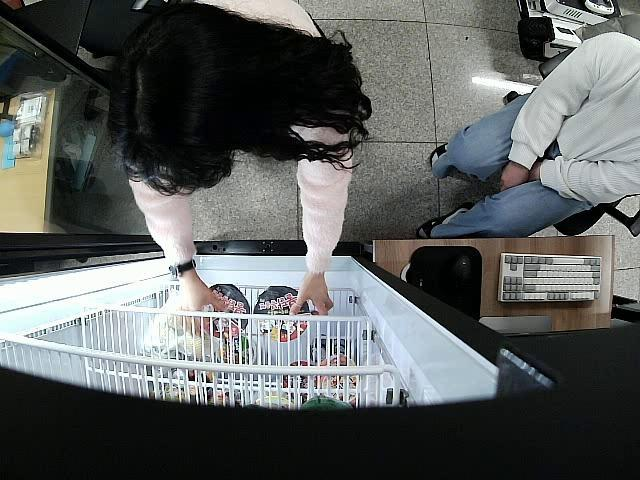07_buldak_L: (254, 285, 310, 342), (202, 282, 253, 341)
